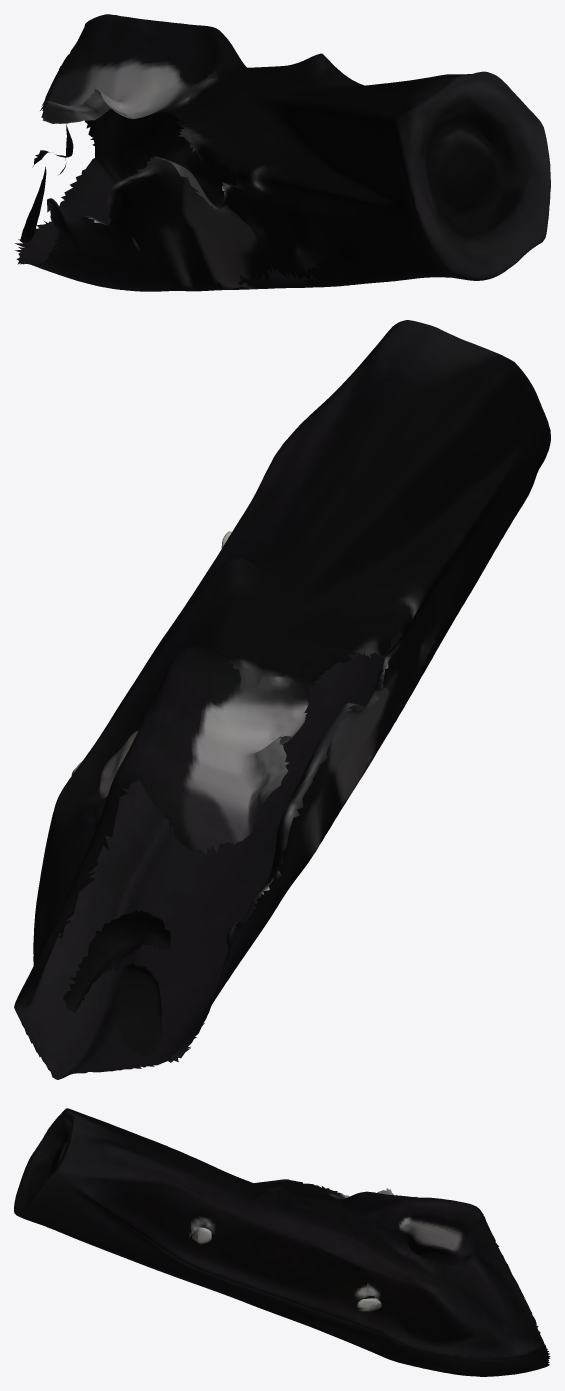
File: blt150_09.obj
3 renders of one model, top to bottom at view 1: azimuth 30°, elevation 25°; view 2: azimuth 150°, elevation 25°; view 3: azimuth 270°, elevation 25°, orthographic. The views are drawn at different scales.
Visible parts, largest first — view 1: blt150_main.008_tripo_node_36cdd4a4-d861-4834-acdf-ce8a7d82f620.; view 2: blt150_main.008_tripo_node_36cdd4a4-d861-4834-acdf-ce8a7d82f620.; view 3: blt150_main.008_tripo_node_36cdd4a4-d861-4834-acdf-ce8a7d82f620..
Part boxes in pixels (left/top/right/bottom): blt150_main.008_tripo_node_36cdd4a4-d861-4834-acdf-ce8a7d82f620.: left=15, top=14, right=550, bottom=291; blt150_main.008_tripo_node_36cdd4a4-d861-4834-acdf-ce8a7d82f620.: left=14, top=320, right=550, bottom=1079; blt150_main.008_tripo_node_36cdd4a4-d861-4834-acdf-ce8a7d82f620.: left=14, top=1108, right=550, bottom=1376.
Size of the model in its own units: 0.8366 by 1.52 by 2.8.
1 material, 1 textured.
